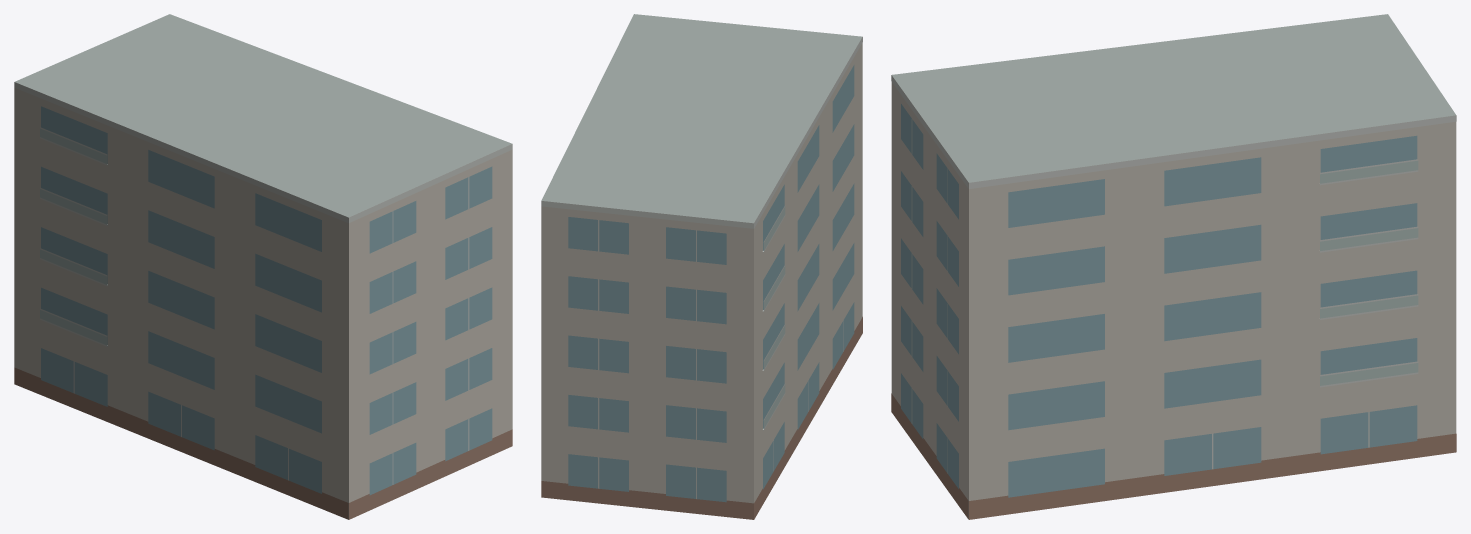
File: survey-upis-32569915.glb
The picture shows the model from 3 angles, left to right: view 1: azimuth 30°, elevation 25°; view 2: azimuth 150°, elevation 25°; view 3: azimuth 270°, elevation 25°; orthographic projection. The views are drawn at different scales.
Parts seen in each view (by area): view 1: survey-upis-32569915.tmp; view 2: survey-upis-32569915.tmp; view 3: survey-upis-32569915.tmp.
Boxes of the visible parts, box(x1,y1,x2,y2) form: survey-upis-32569915.tmp: box(14, 14, 512, 519); survey-upis-32569915.tmp: box(541, 14, 862, 519); survey-upis-32569915.tmp: box(891, 14, 1456, 519).
Size of the model in its own units: 13.98 by 13 by 19.76.
